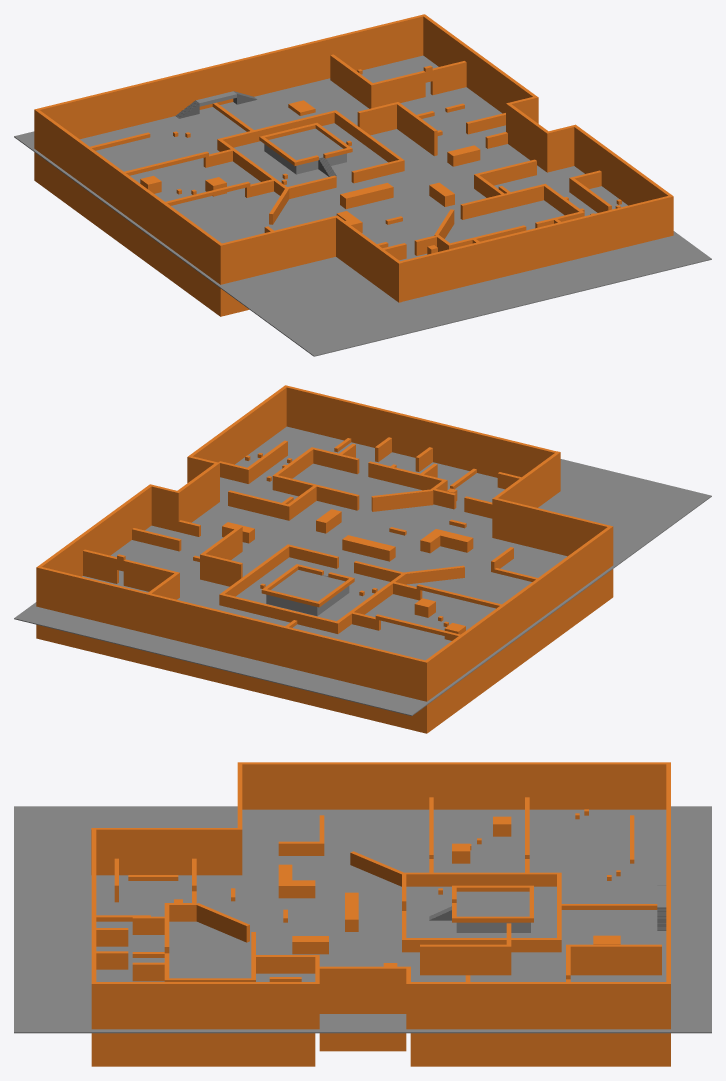
Rendered from DeathMatchMap.fbx.
3 views of the same model, one above another, from view 1: azimuth 30°, elevation 25°; view 2: azimuth 150°, elevation 25°; view 3: azimuth 270°, elevation 25° (orthographic). The views are drawn at different scales.
Parts seen in each view (by area): view 1: Tri_Floor__Tri_Planar_, Tri_Wall__Tri_Planar___19_, Tri_Wall__Tri_Planar_, Tri_Wall__Tri_Planar___20_, Tri_Wall__Tri_Planar___14_, Tri_Wall__Tri_Planar___1_, Tri_Wall__Tri_Planar___31_, Tri_Wall__Tri_Planar___15_, Tri_Floor__Tri_Planar__1, Tri_Wall__Tri_Planar___33_, Tri_Wall__Tri_Planar___78_, Tri_Wall__Tri_Planar___27_ (+15 smaller); view 2: Tri_Floor__Tri_Planar_, Tri_Wall__Tri_Planar___19_, Tri_Wall__Tri_Planar_, Tri_Wall__Tri_Planar___20_, Tri_Wall__Tri_Planar___14_, Tri_Wall__Tri_Planar___1_, Tri_Wall__Tri_Planar___31_, Tri_Floor__Tri_Planar__1, Tri_Wall__Tri_Planar___15_, Tri_Wall__Tri_Planar___33_, Tri_Wall__Tri_Planar___4_, Tri_Wall__Tri_Planar___27_ (+18 smaller); view 3: Tri_Floor__Tri_Planar_, Tri_Wall__Tri_Planar___1_, Tri_Wall__Tri_Planar_, Tri_Wall__Tri_Planar___31_, Tri_Wall__Tri_Planar___15_, Tri_Wall__Tri_Planar___33_, Tri_Wall__Tri_Planar___77_, Tri_Wall__Tri_Planar___81_, Tri_Floor__Tri_Planar__1, Tri_Wall__Tri_Planar__1, Tri_Wall__Tri_Planar___3_, Tri_Wall__Tri_Planar___19_ (+16 smaller).
Boxes of the visible parts, x1,y1,x2,y2 form: Tri_Floor__Tri_Planar_: (14,55,711,356); Tri_Wall__Tri_Planar___19_: (38,14,426,139); Tri_Wall__Tri_Planar_: (34,108,221,314); Tri_Wall__Tri_Planar___20_: (398,195,673,301); Tri_Wall__Tri_Planar___14_: (218,215,338,316); Tri_Wall__Tri_Planar___1_: (423,15,535,113); Tri_Wall__Tri_Planar___31_: (574,126,671,205); Tri_Wall__Tri_Planar___15_: (336,217,402,302); Tri_Floor__Tri_Planar__1: (264,128,346,174); Tri_Wall__Tri_Planar___33_: (508,104,547,170); Tri_Wall__Tri_Planar___78_: (369,70,425,108); Tri_Wall__Tri_Planar___27_: (460,184,543,219); Tri_Floor__Tri_Planar_: (14,426,711,716); Tri_Wall__Tri_Planar___19_: (36,566,426,733); Tri_Wall__Tri_Planar_: (424,527,611,733); Tri_Wall__Tri_Planar___20_: (284,385,559,477); Tri_Wall__Tri_Planar___14_: (492,497,613,598); Tri_Wall__Tri_Planar___1_: (39,485,151,576); Tri_Wall__Tri_Planar___31_: (189,386,286,464); Tri_Floor__Tri_Planar__1: (266,570,349,616); Tri_Wall__Tri_Planar___15_: (494,451,560,507); Tri_Wall__Tri_Planar___33_: (177,463,217,522); Tri_Wall__Tri_Planar___4_: (220,593,339,633); Tri_Wall__Tri_Planar___27_: (275,475,359,510); Tri_Floor__Tri_Planar_: (14,806,711,1033); Tri_Wall__Tri_Planar___1_: (410,982,666,1066); Tri_Wall__Tri_Planar_: (241,762,670,809); Tri_Wall__Tri_Planar___31_: (96,982,315,1066); Tri_Wall__Tri_Planar___15_: (91,828,237,875); Tri_Wall__Tri_Planar___33_: (319,966,406,1051); Tri_Wall__Tri_Planar___77_: (570,944,661,975); Tri_Wall__Tri_Planar___81_: (420,944,511,975); Tri_Floor__Tri_Planar__1: (456,891,530,932); Tri_Wall__Tri_Planar__1: (402,872,556,886); Tri_Wall__Tri_Planar___3_: (402,938,561,952); Tri_Wall__Tri_Planar___19_: (666,763,670,1066).
Size of the model in its own units: 11717 by 2000 by 15305.
